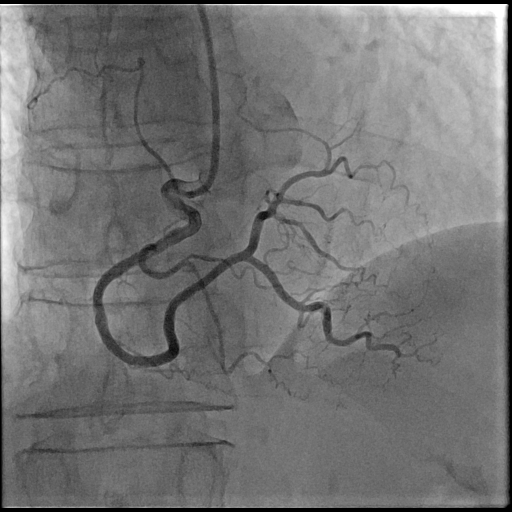RCA: (93, 157, 371, 367)
catherter: (186, 7, 220, 198)
